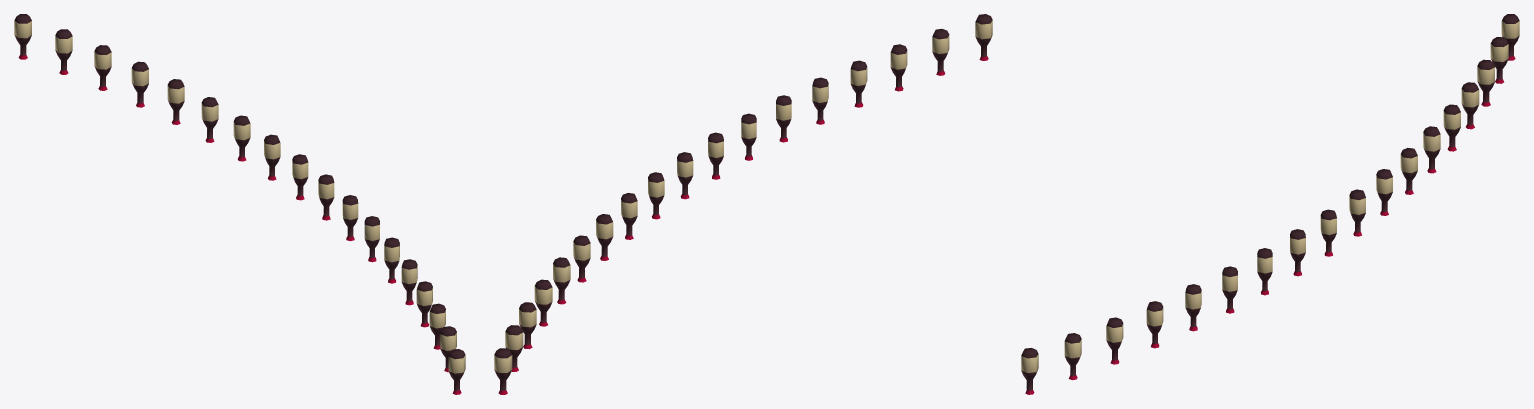
The model's file is bottles_top.glb.
3 views of the same model, side by side, from view 1: azimuth 30°, elevation 25°; view 2: azimuth 150°, elevation 25°; view 3: azimuth 330°, elevation 25° (orthographic). The views are drawn at different scales.
Visible parts, largest first — view 1: bottles_top; view 2: bottles_top; view 3: bottles_top.
Boxes of the visible parts, x1,y1,x2,y2 form: bottles_top: [14, 14, 465, 394]; bottles_top: [494, 14, 992, 394]; bottles_top: [1021, 14, 1519, 394].
Bounding box in the file's own units: 1.47 × 0.6016 × 12.13.
2 materials, 2 textured.
